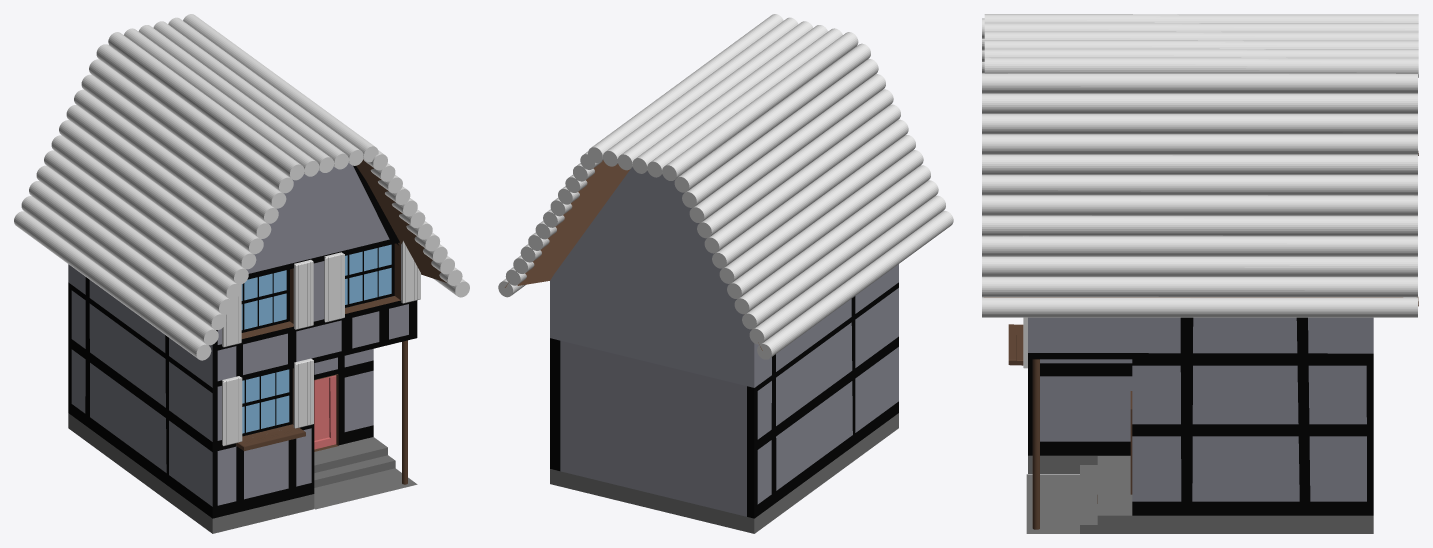
Rendered from house variation.fbx.
The picture shows the model from 3 angles, left to right: view 1: azimuth 30°, elevation 25°; view 2: azimuth 150°, elevation 25°; view 3: azimuth 270°, elevation 25°; orthographic projection. The views are drawn at different scales.
Parts seen in each view (by area): view 1: walls, roof without mod; view 2: walls, roof without mod; view 3: roof without mod, walls.
Part boxes in pixels (<box>): walls: <box>68,159,446,533</box>; roof without mod: <box>14,14,469,360</box>; walls: <box>505,160,898,533</box>; roof without mod: <box>498,14,953,359</box>; roof without mod: <box>982,14,1418,317</box>; walls: <box>984,151,1418,533</box>.
Bounding box in the file's own units: 819 × 1047 × 946.
